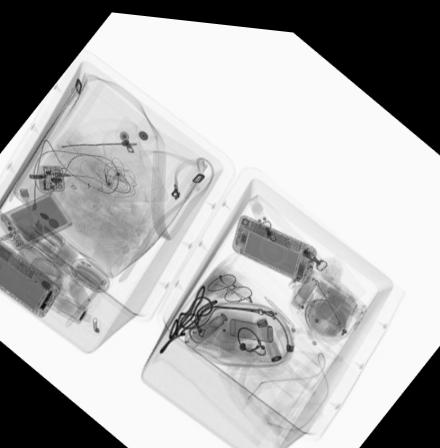Powerbank: (0, 190, 75, 251)
